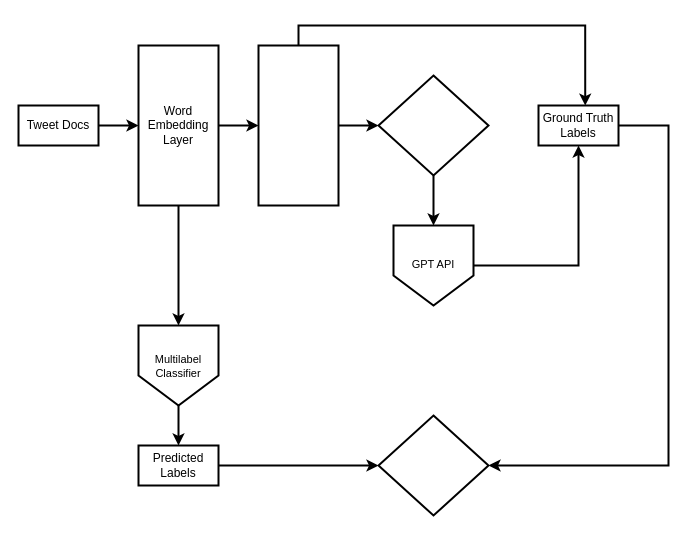
This 694x533 diagram has some shape labels left out. Here are the shapes that lost their labels. From the top down, the box of each, then its label:
(257, 44, 339, 206): Clustering Model
(377, 74, 489, 176): Sample from cluster
(377, 414, 489, 516): Calculate Performance Metrics
